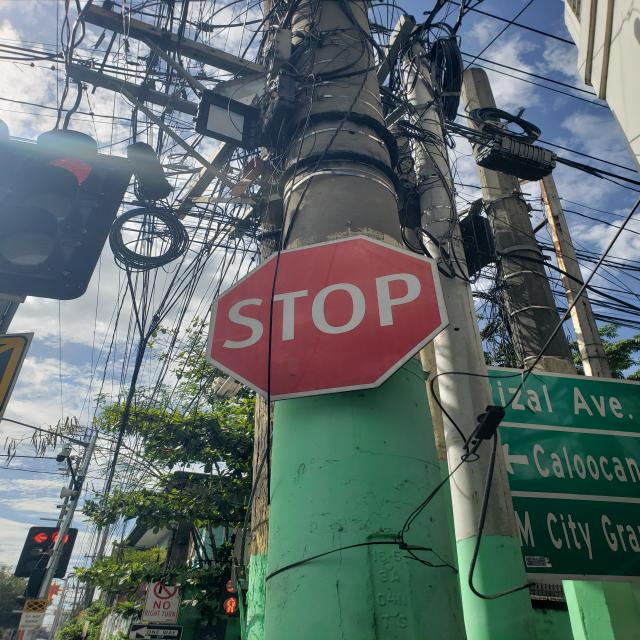stop-sign: (204, 234, 450, 402)
